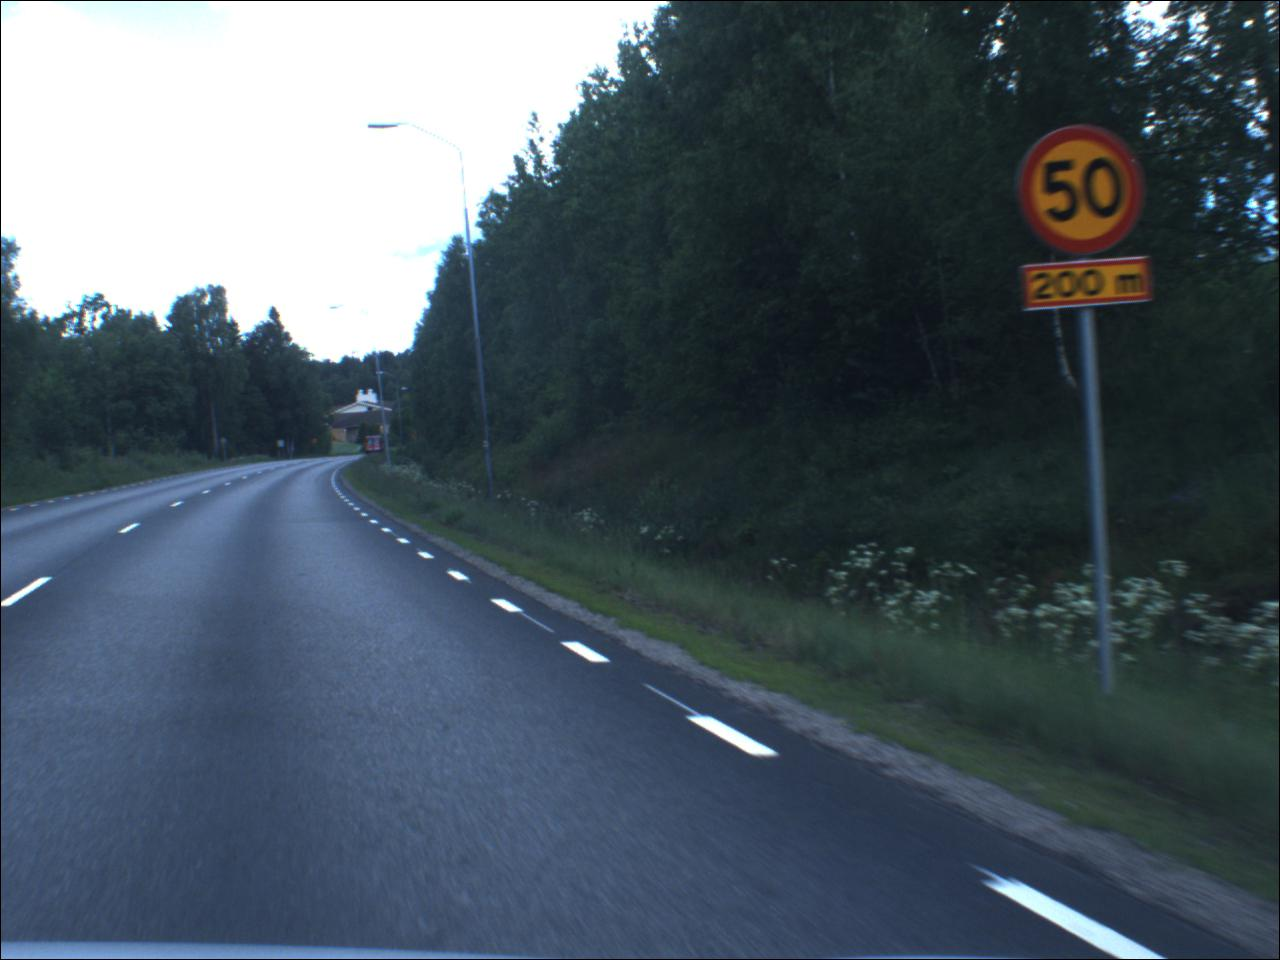50_SIGN: (1016, 124, 1147, 260)
